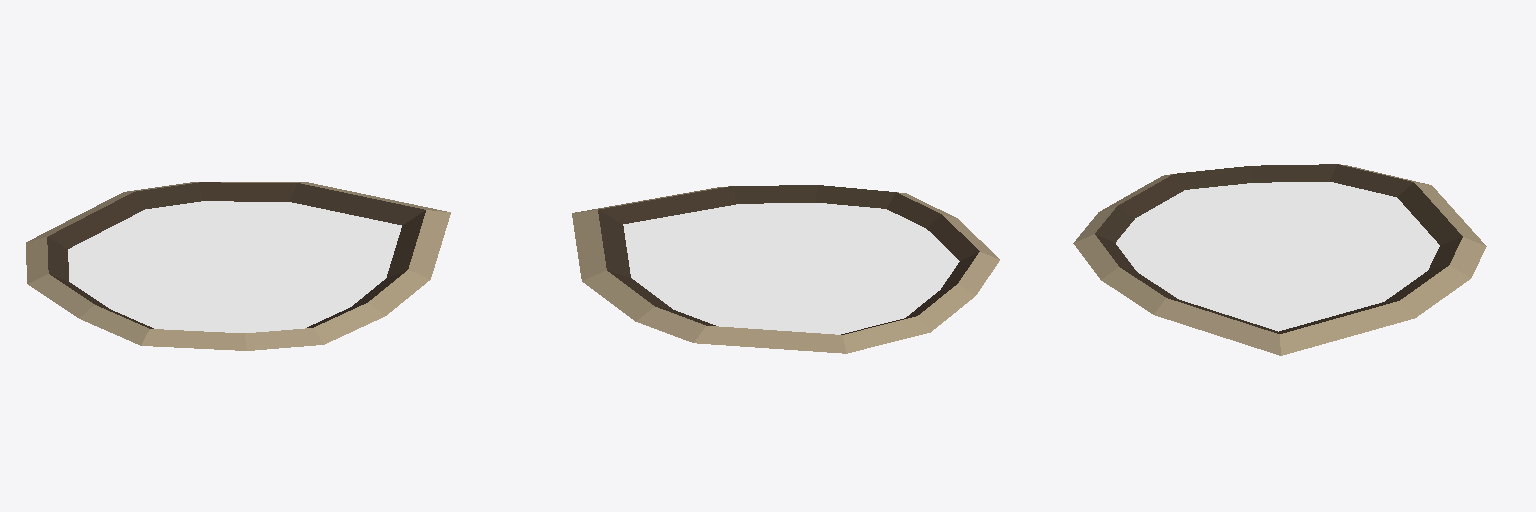
File: crater2.obj
The picture shows the model from 3 angles: view 1: azimuth 30°, elevation 25°; view 2: azimuth 150°, elevation 25°; view 3: azimuth 270°, elevation 25°; orthographic projection.
Parts seen in each view (by area): view 1: crater2; view 2: crater2; view 3: crater2.
Part boxes in pixels (x1,y1,x2,y2): crater2: (26,182,450,350); crater2: (572,185,999,353); crater2: (1073,164,1486,355).
Size of the model in its own units: 66.43 by 1.51 by 60.75.